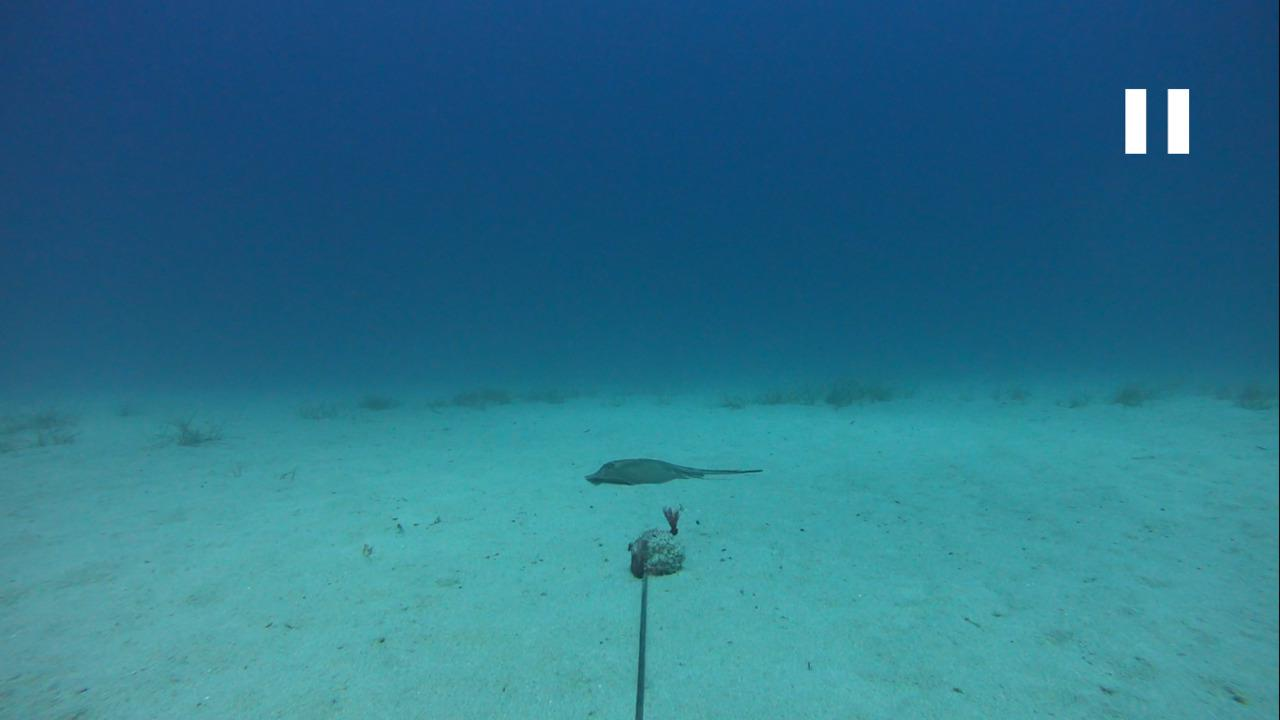myliobatis: (581, 451, 767, 492)
